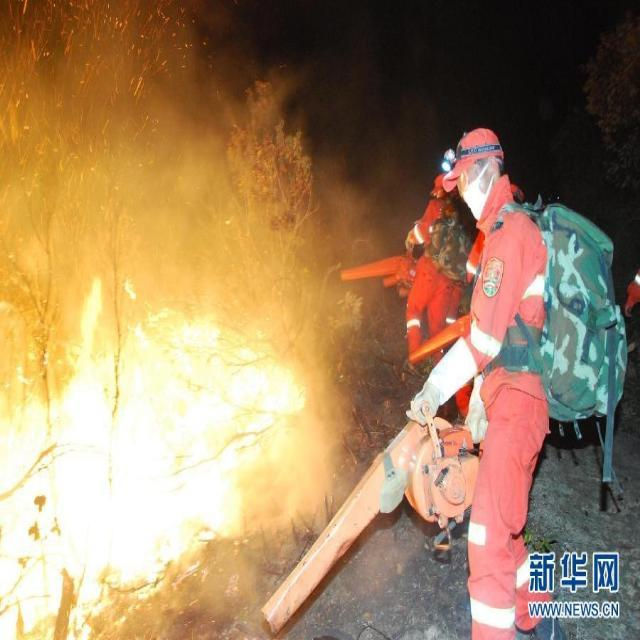Fire: (1, 277, 308, 640)
Smoke: (1, 1, 390, 300)
